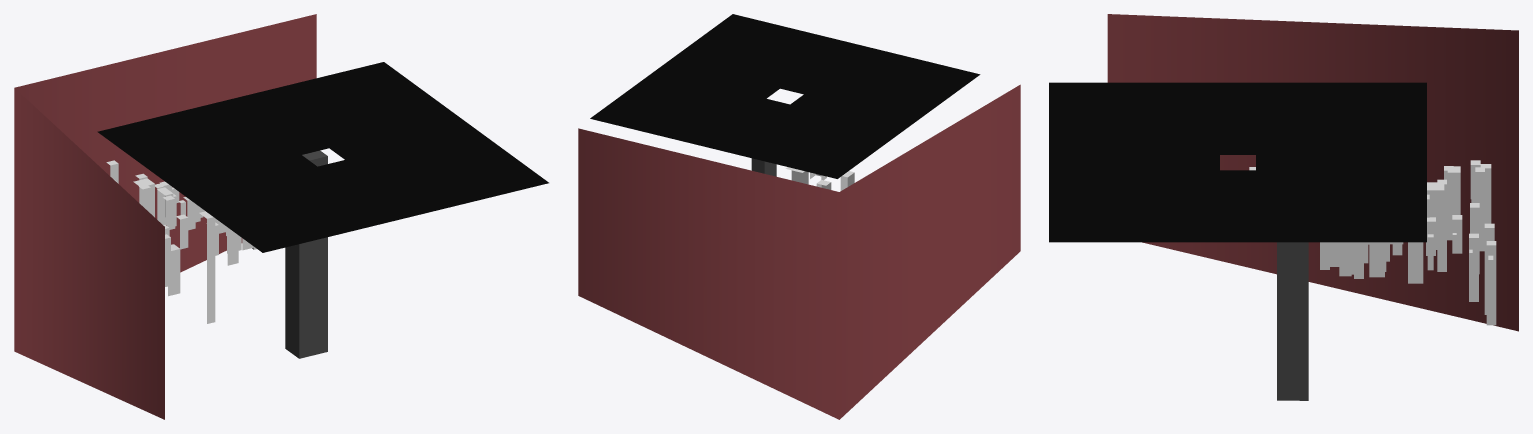
File: background.FBX
3 renders of one model, left to right at view 1: azimuth 30°, elevation 25°; view 2: azimuth 150°, elevation 25°; view 3: azimuth 270°, elevation 25°, orthographic. The views are drawn at different scales.
Visible parts, largest first — view 1: Box017, Object001, Box019, Box056, Box026; view 2: Box017, Object001; view 3: Object001, Box017, Box019, Box050, Box064, Box063, Box073, Box055, Box077, Box062, Box032.
Part boxes in pixels (x1,y1,x2,y2): Box017: (14, 14, 316, 419); Object001: (97, 62, 548, 252); Box019: (285, 150, 327, 358); Box056: (199, 211, 215, 323); Box026: (168, 244, 180, 296); Box017: (578, 84, 1020, 419); Object001: (590, 14, 980, 178); Object001: (1049, 82, 1426, 242); Box017: (1107, 14, 1518, 331); Box019: (1277, 242, 1308, 400); Box050: (1486, 241, 1496, 325); Box064: (1427, 182, 1444, 249); Box063: (1447, 166, 1460, 218); Box073: (1471, 164, 1491, 251); Box055: (1408, 242, 1423, 283); Box077: (1469, 233, 1478, 301); Box062: (1437, 179, 1446, 271); Box032: (1339, 242, 1351, 276).
Bounding box in the file's own units: 489 × 344 × 486.
